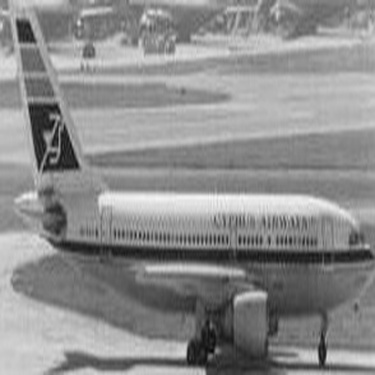airplane: (1, 12, 369, 371)
